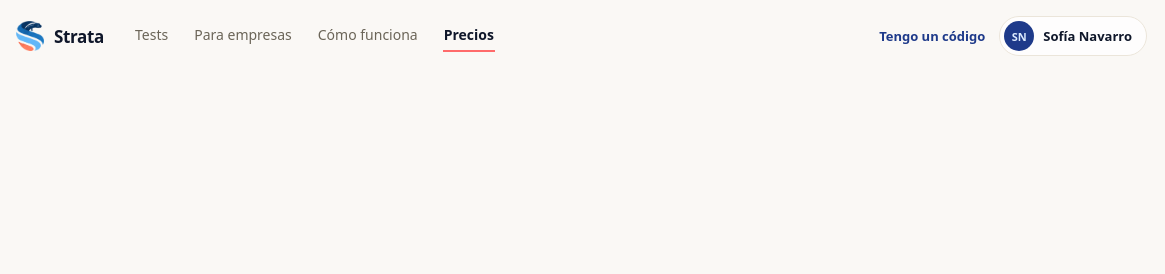
Scenario: Header (barra pública) › con sesión sin organización: pastilla con Mi perfil y Salir, sin Panel de RR. HH. ni Operación
Click the button named "menú de cuenta": (1073,36) left=999, top=16, right=1147, bottom=56
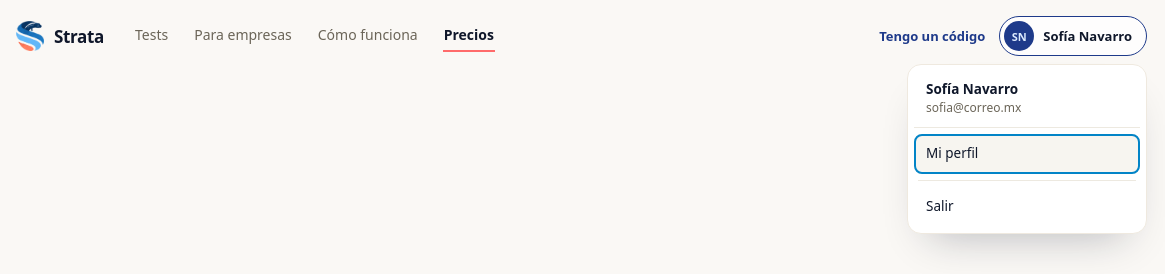
Expected: the menu items read "Mi perfil", "Salir", in this order, left=914, top=134, right=1140, bottom=174; left=914, top=187, right=1140, bottom=227
